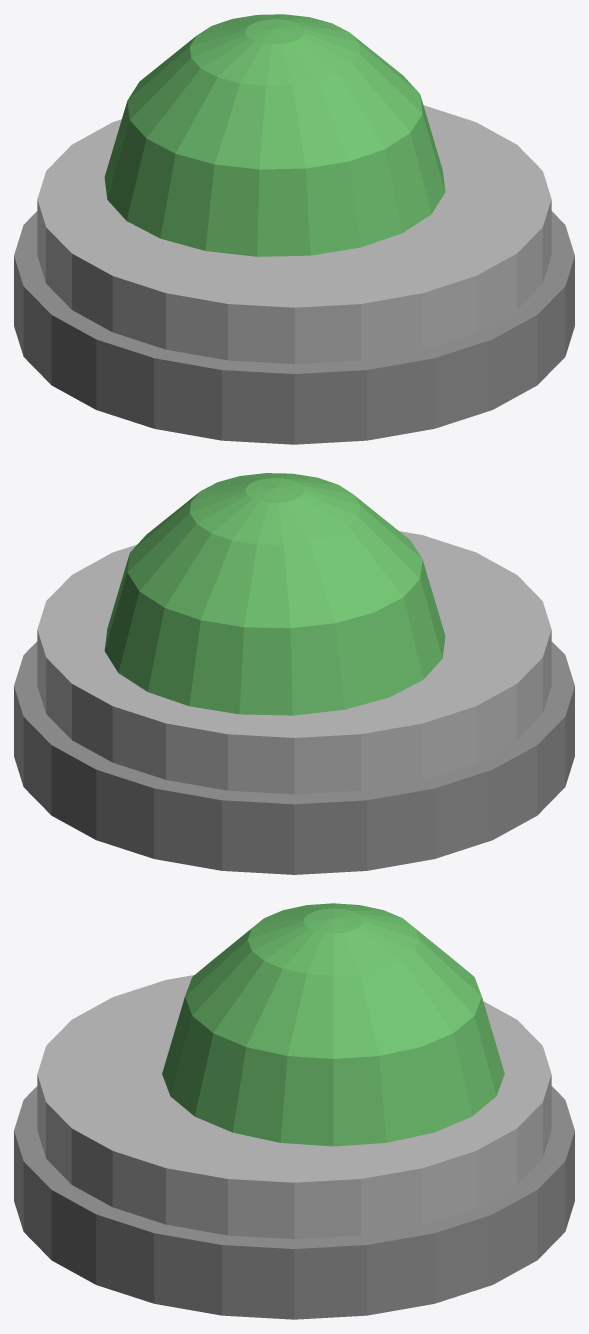
File: vge_station_nav_beacon.obj
3 renders of one model, top to bottom at view 1: azimuth 30°, elevation 25°; view 2: azimuth 150°, elevation 25°; view 3: azimuth 270°, elevation 25°, orthographic.
Visible parts, largest first — view 1: vge_station_nav_beacon_1, vge_station_nav_beacon_2, vge_station_nav_beacon_0; view 2: vge_station_nav_beacon_2, vge_station_nav_beacon_1, vge_station_nav_beacon_0; view 3: vge_station_nav_beacon_1, vge_station_nav_beacon_2, vge_station_nav_beacon_0.
Part boxes in pixels (bbox=[...]): vge_station_nav_beacon_1: bbox=[37, 105, 551, 364]; vge_station_nav_beacon_2: bbox=[104, 14, 445, 256]; vge_station_nav_beacon_0: bbox=[14, 211, 574, 444]; vge_station_nav_beacon_2: bbox=[104, 473, 445, 715]; vge_station_nav_beacon_1: bbox=[37, 531, 551, 794]; vge_station_nav_beacon_0: bbox=[14, 641, 574, 874]; vge_station_nav_beacon_1: bbox=[37, 975, 551, 1239]; vge_station_nav_beacon_2: bbox=[162, 903, 504, 1146]; vge_station_nav_beacon_0: bbox=[14, 1086, 574, 1319].
Size of the model in its own units: 0.72 by 0.4 by 0.72.
